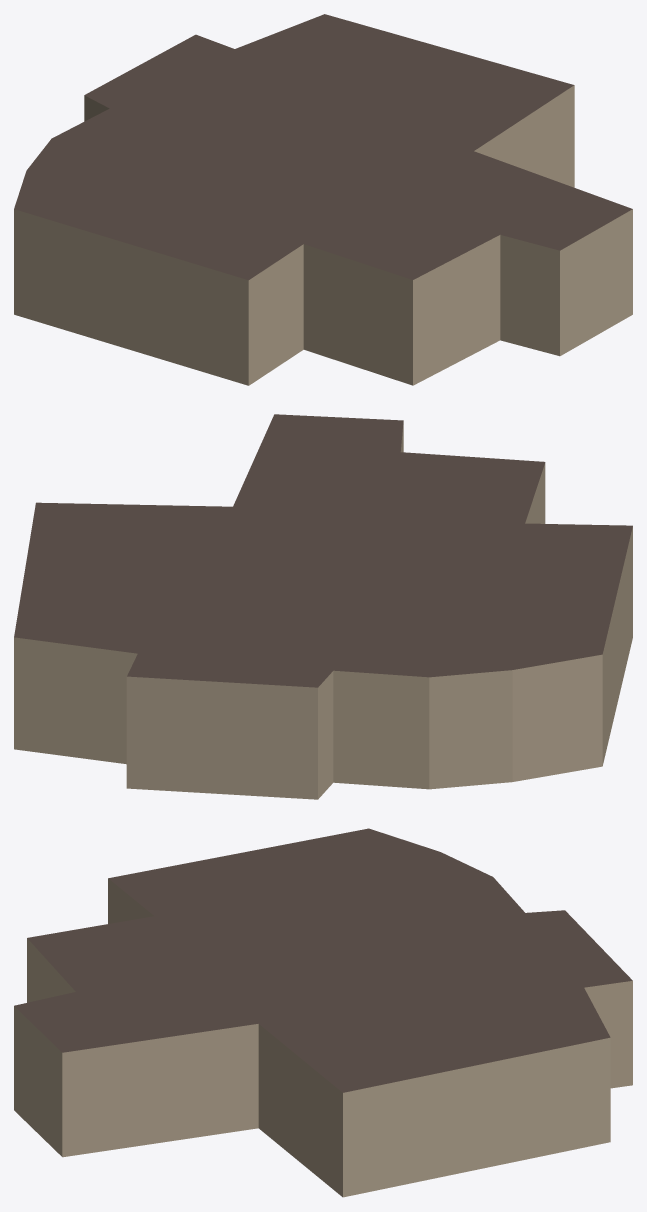
3 renders of one model, top to bottom at view 1: azimuth 30°, elevation 25°; view 2: azimuth 150°, elevation 25°; view 3: azimuth 270°, elevation 25°, orthographic. The views are drawn at different scales.
Parts seen in each view (by area): view 1: HP-w494404354; view 2: HP-w494404354; view 3: HP-w494404354.
Part boxes in pixels (<box>): HP-w494404354: <box>14,14,632,385</box>; HP-w494404354: <box>14,414,632,799</box>; HP-w494404354: <box>14,828,632,1197</box>.
Bounding box in the file's own units: 48.81 × 9 × 48.29.
